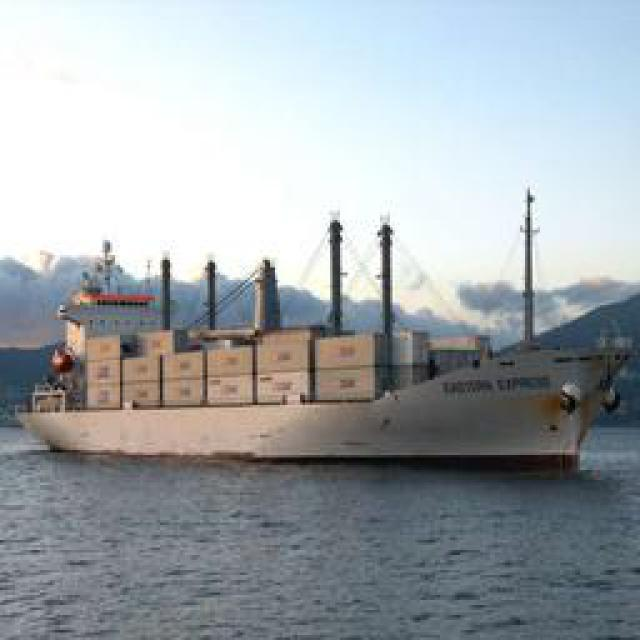Ship: (22, 230, 630, 475)
